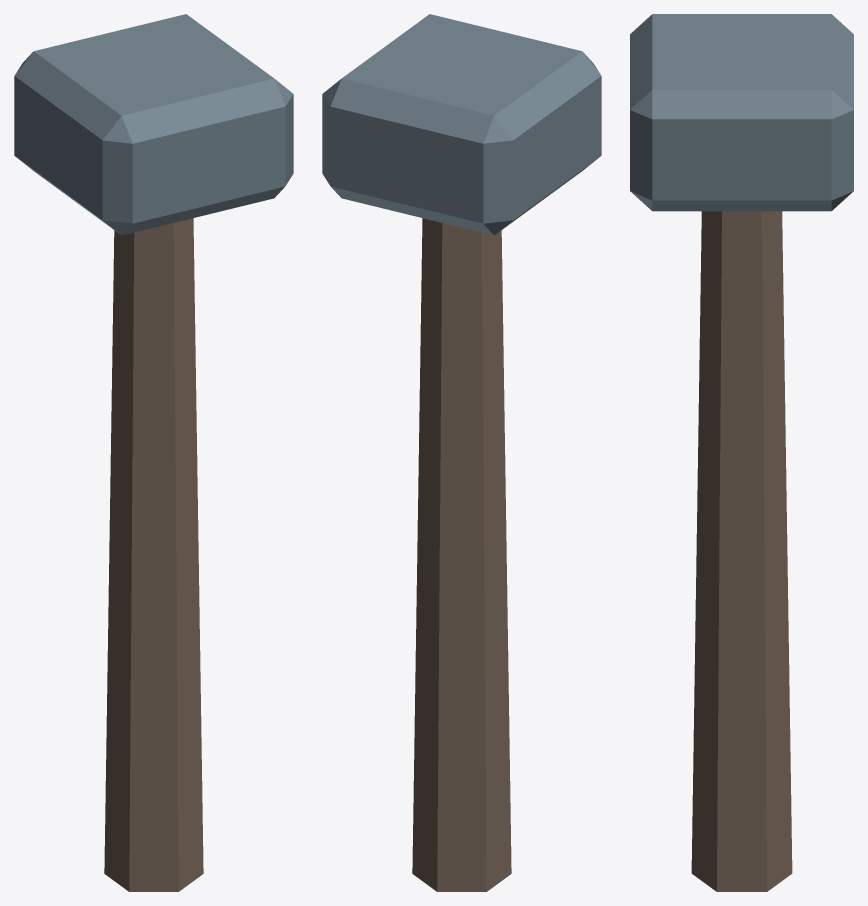
File: enfeite_tocha.glb
3 renders of one model, left to right at view 1: azimuth 30°, elevation 25°; view 2: azimuth 150°, elevation 25°; view 3: azimuth 270°, elevation 25°, orthographic.
Visible parts, largest first — view 1: pedreira_enfeite_tocha; view 2: pedreira_enfeite_tocha; view 3: pedreira_enfeite_tocha.
Boxes of the visible parts, left/top/right/bottom form: pedreira_enfeite_tocha: left=14, top=14, right=293, bottom=891; pedreira_enfeite_tocha: left=322, top=14, right=601, bottom=891; pedreira_enfeite_tocha: left=630, top=14, right=853, bottom=891.
Size of the model in its own units: 0.2 by 0.81 by 0.2.
